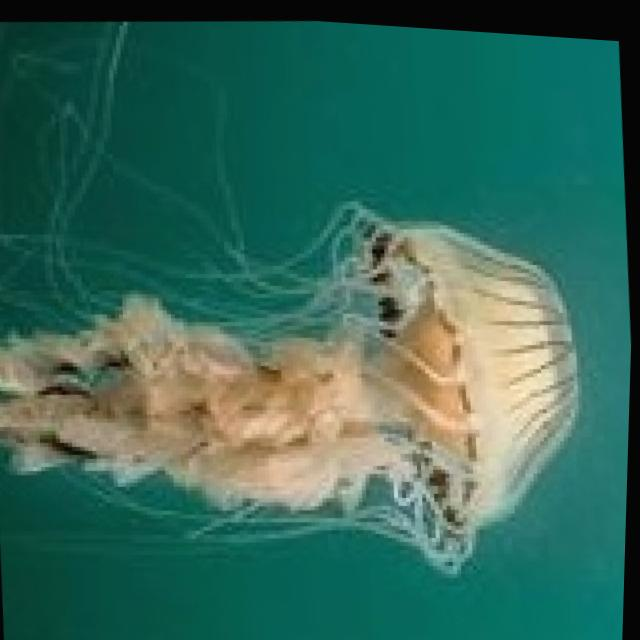Human: (0, 157, 603, 605)
